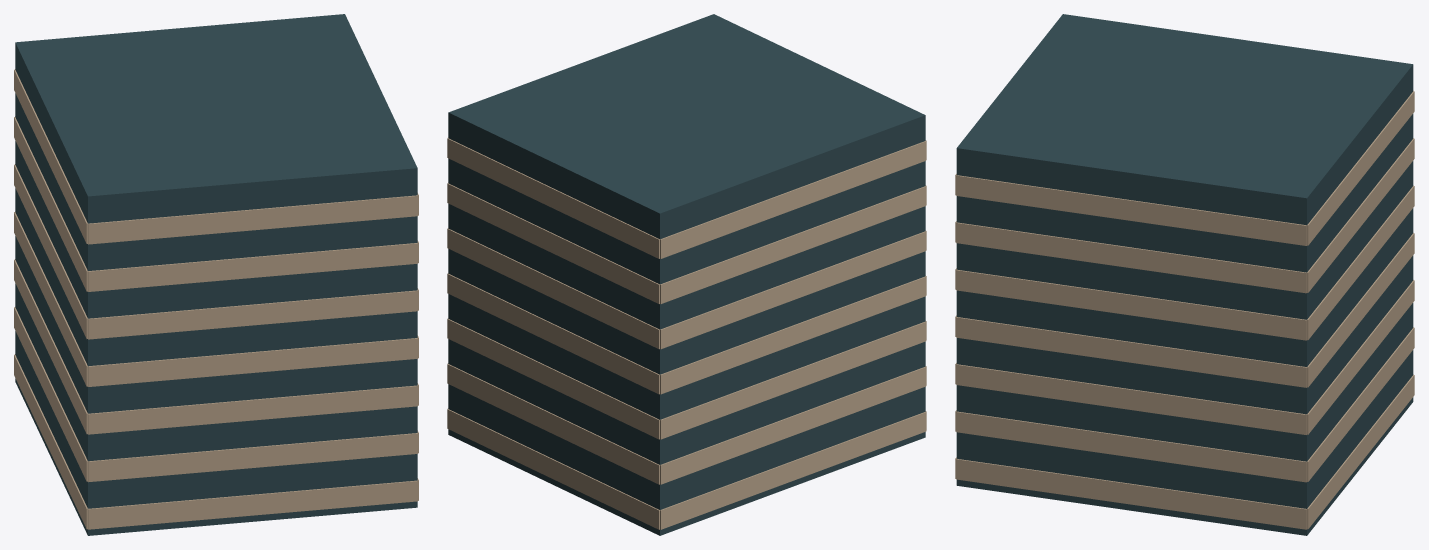
File: bgc_building_0015_lod1.glb
3 renders of one model, left to right at view 1: azimuth 30°, elevation 25°; view 2: azimuth 150°, elevation 25°; view 3: azimuth 270°, elevation 25°, orthographic. The views are drawn at different scales.
Parts seen in each view (by area): view 1: BGC_RUNTIME_001_M10_0015_Envelope, BGC_RUNTIME_M10_0015_FACADE_BANDS; view 2: BGC_RUNTIME_001_M10_0015_Envelope, BGC_RUNTIME_M10_0015_FACADE_BANDS; view 3: BGC_RUNTIME_001_M10_0015_Envelope, BGC_RUNTIME_M10_0015_FACADE_BANDS.
Boxes of the visible parts, x1,y1,x2,y2 form: BGC_RUNTIME_001_M10_0015_Envelope: [15, 14, 417, 535]; BGC_RUNTIME_M10_0015_FACADE_BANDS: [14, 69, 418, 529]; BGC_RUNTIME_001_M10_0015_Envelope: [448, 14, 925, 535]; BGC_RUNTIME_M10_0015_FACADE_BANDS: [447, 138, 926, 529]; BGC_RUNTIME_001_M10_0015_Envelope: [956, 14, 1413, 535]; BGC_RUNTIME_M10_0015_FACADE_BANDS: [955, 91, 1414, 529].
Bounding box in the file's own units: 54.04 × 45.9 × 56.56.
